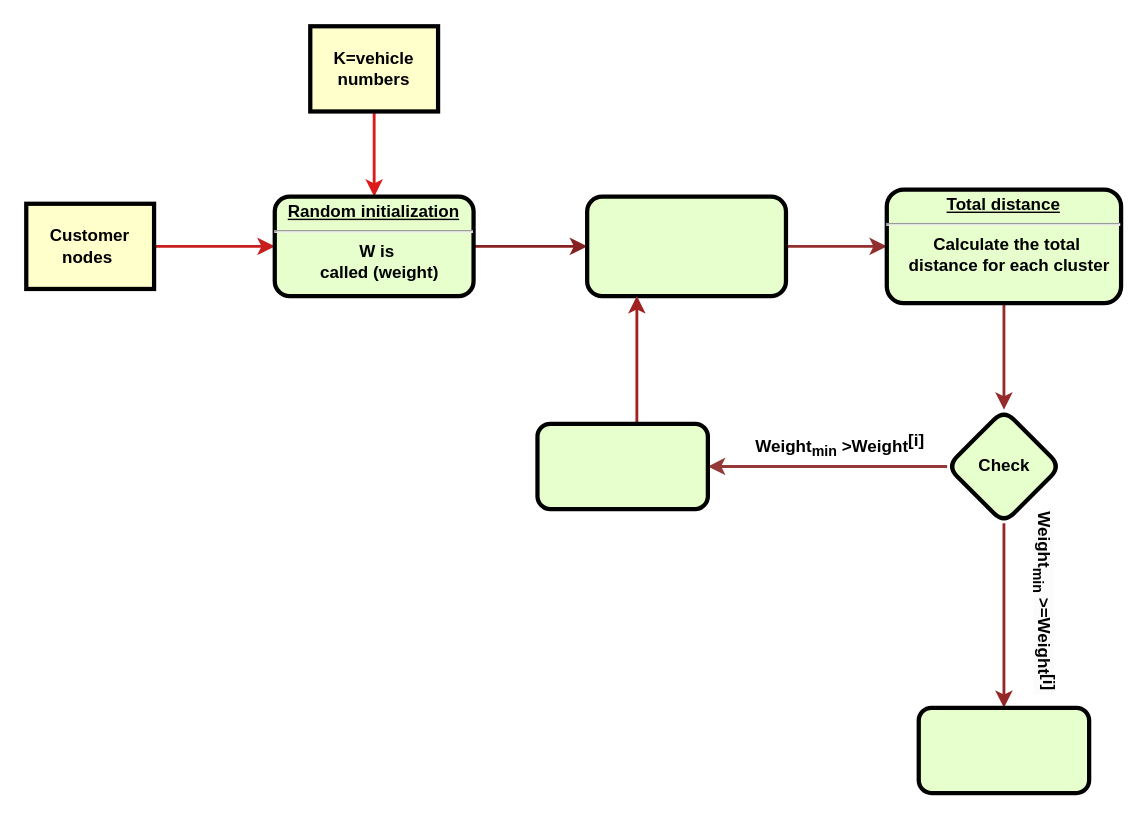
The diagram is 1147 pixels wide and 819 high, and some of its shapes have lost their labels. The shapes that lost their labels are listed below. From the top down, each one's centre as x and y in pixels, then its label:
point (685, 245): Clustering nodes Divide nodes into the nearest cluster M
point (622, 465): Update Weight
point (1003, 749): Return Weight min
